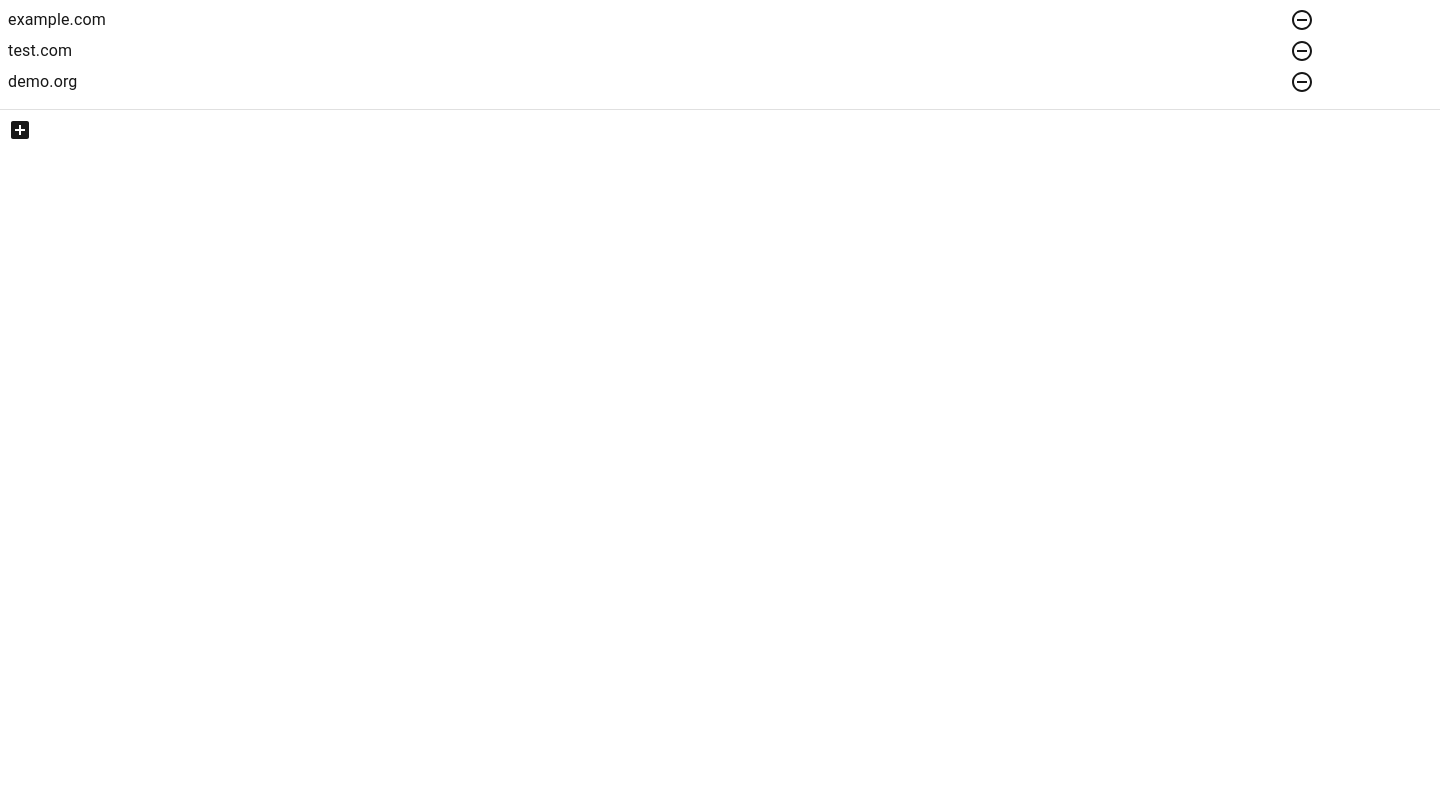
Test: TenantManagementDomainConfiguration Component › Add Domain Dialog › should open add dialog when add icon is clicked
Expected: the text "example.com" is shown, top-left (8, 10), bottom-right (106, 29)
Click the icon with test id "AddBoxIcon": click(20, 130) top-left (8, 118), bottom-right (32, 142)
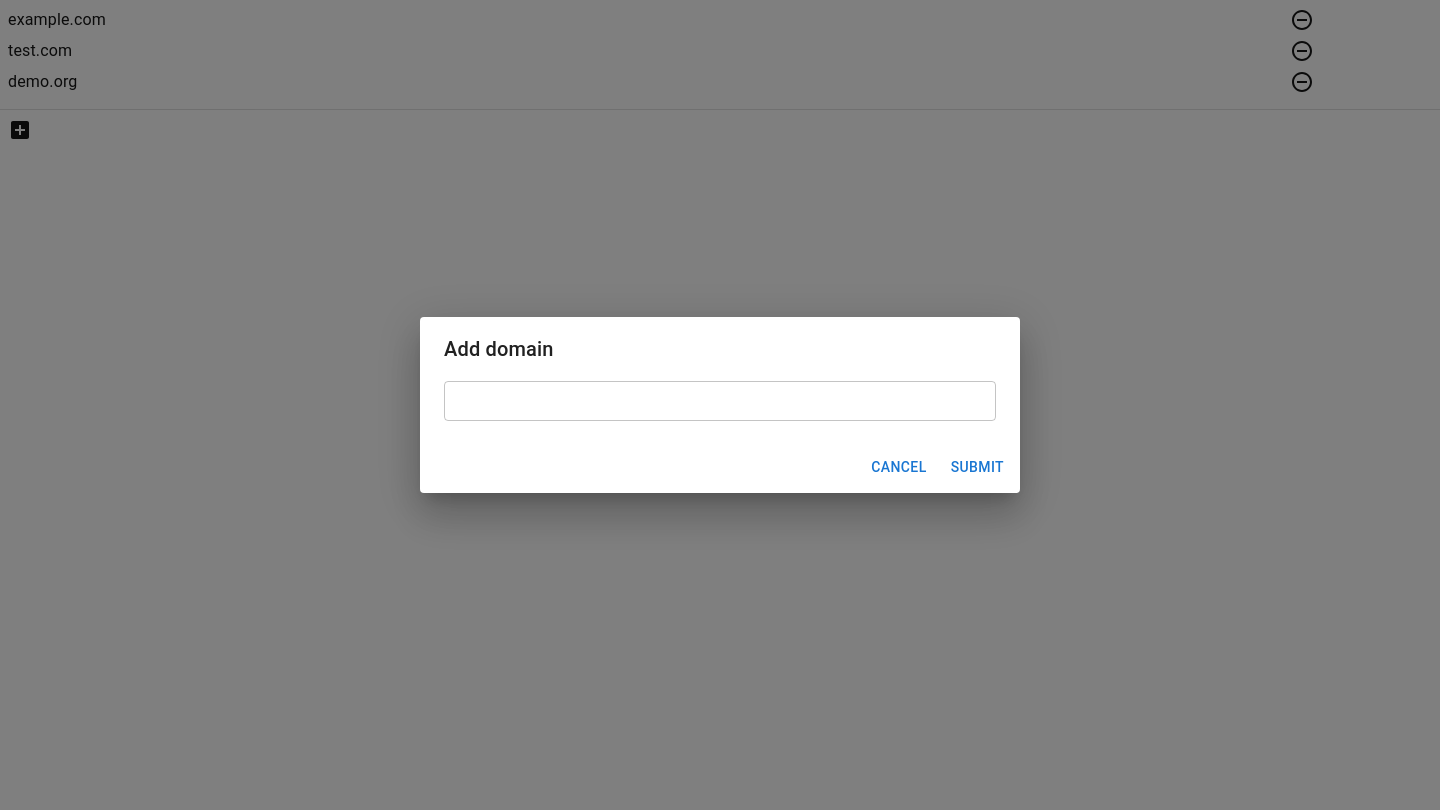
Result: the heading "Add domain" is shown at top-left (444, 337), bottom-right (554, 361)
